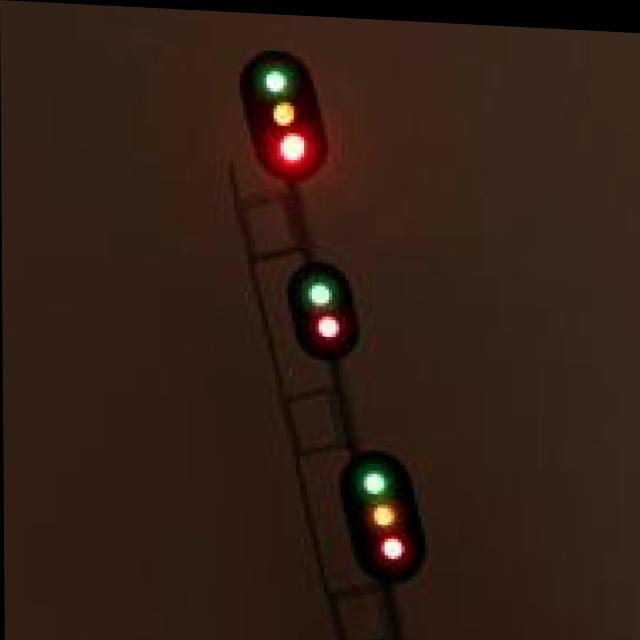red_light: (266, 122, 309, 180)
